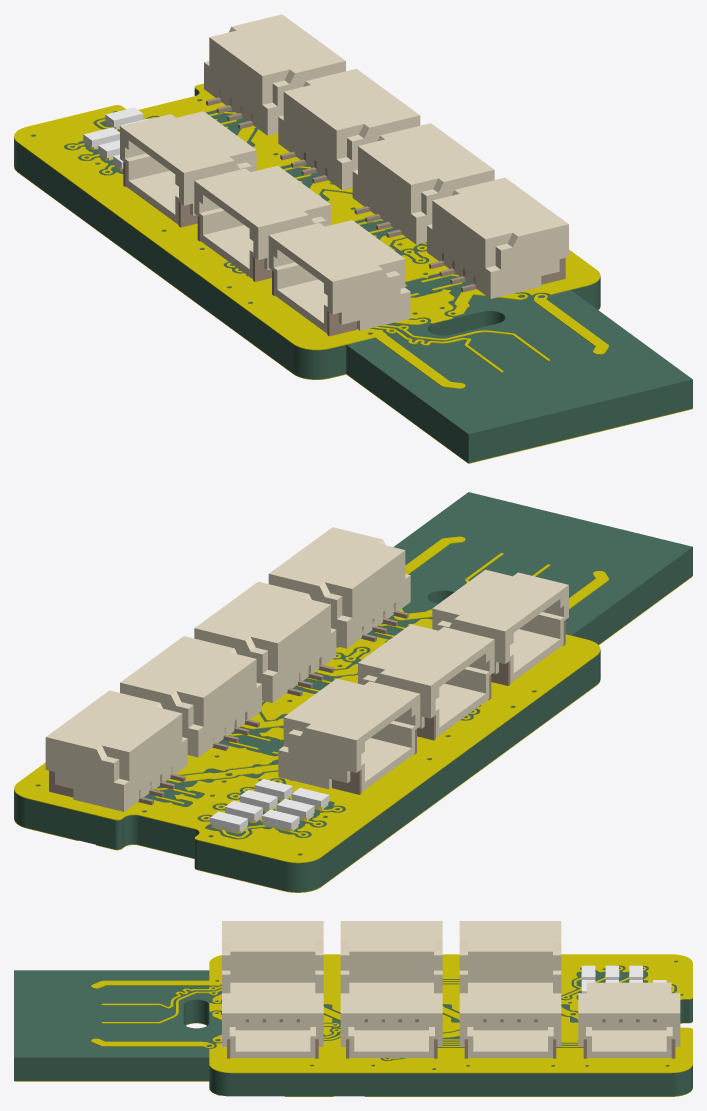
File: stickhub.glb
3 renders of one model, top to bottom at view 1: azimuth 30°, elevation 25°; view 2: azimuth 150°, elevation 25°; view 3: azimuth 270°, elevation 25°, orthographic. The views are drawn at different scales.
Parts seen in each view (by area): view 1: =>[0:1:1:3] (×7), =>[0:1:1:12], =>[0:1:1:10]; view 2: =>[0:1:1:3] (×7), =>[0:1:1:12], =>[0:1:1:10], =>[0:1:1:5] (×2); view 3: =>[0:1:1:3] (×7), =>[0:1:1:12], =>[0:1:1:10].
Part boxes in pixels (x1,y1,x2,y2): =>[0:1:1:3] (×7): (120,14,568,336); =>[0:1:1:12]: (14,88,692,463); =>[0:1:1:10]: (14,83,691,463); =>[0:1:1:3] (×7): (45,527,568,811); =>[0:1:1:12]: (14,492,692,892); =>[0:1:1:10]: (14,536,692,892); =>[0:1:1:5] (×2): (210,809,299,833); =>[0:1:1:3] (×7): (222,921,680,1058); =>[0:1:1:12]: (14,961,692,1096); =>[0:1:1:10]: (14,954,692,1096).
Bounding box in the file's own units: 0.0165 × 0.00564 × 0.04.
